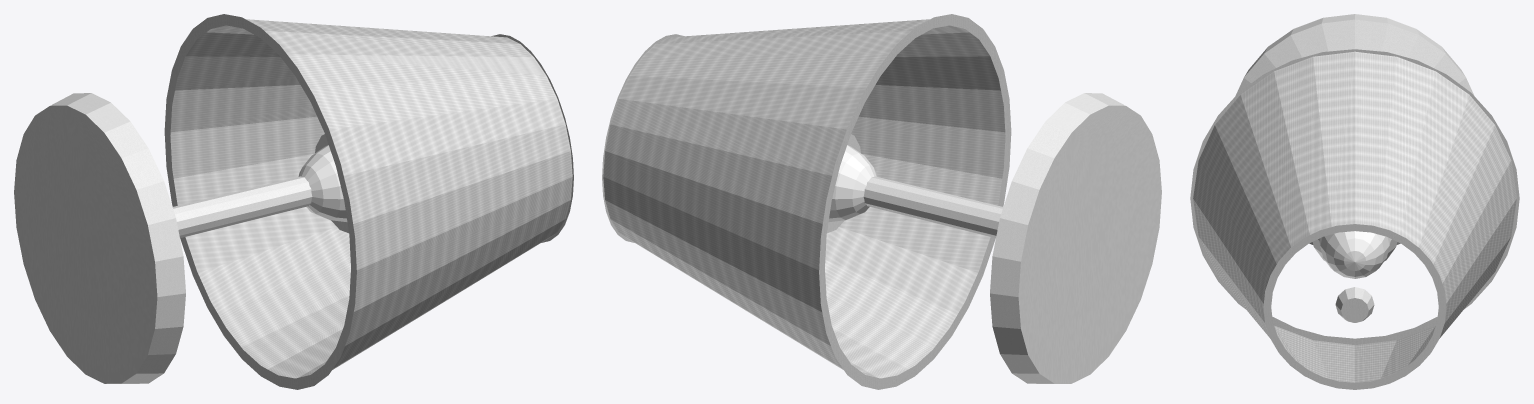
The model's file is householddesklamp.obj.
3 views of the same model, side by side, from view 1: azimuth 30°, elevation 25°; view 2: azimuth 150°, elevation 25°; view 3: azimuth 270°, elevation 25° (orthographic). The views are drawn at different scales.
Visible parts, largest first — view 1: Shade, Base, Trim, Metal, Light0; view 2: Shade, Base, Trim, Metal, Light0; view 3: Shade, Trim, Base, Light0.
Boxes of the visible parts, x1,y1,x2,y2 form: Shade: [170, 19, 572, 378]; Base: [14, 93, 185, 383]; Trim: [164, 14, 573, 389]; Metal: [172, 134, 348, 237]; Light0: [298, 145, 347, 221]; Shade: [603, 19, 1005, 378]; Base: [990, 93, 1161, 383]; Trim: [602, 14, 1011, 389]; Metal: [827, 134, 1003, 237]; Light0: [828, 145, 877, 221]; Shade: [1193, 51, 1516, 382]; Trim: [1190, 49, 1519, 389]; Base: [1235, 14, 1474, 244]; Light0: [1319, 231, 1390, 278].
Size of the model in its own units: 0.785 by 0.59 by 0.59.
